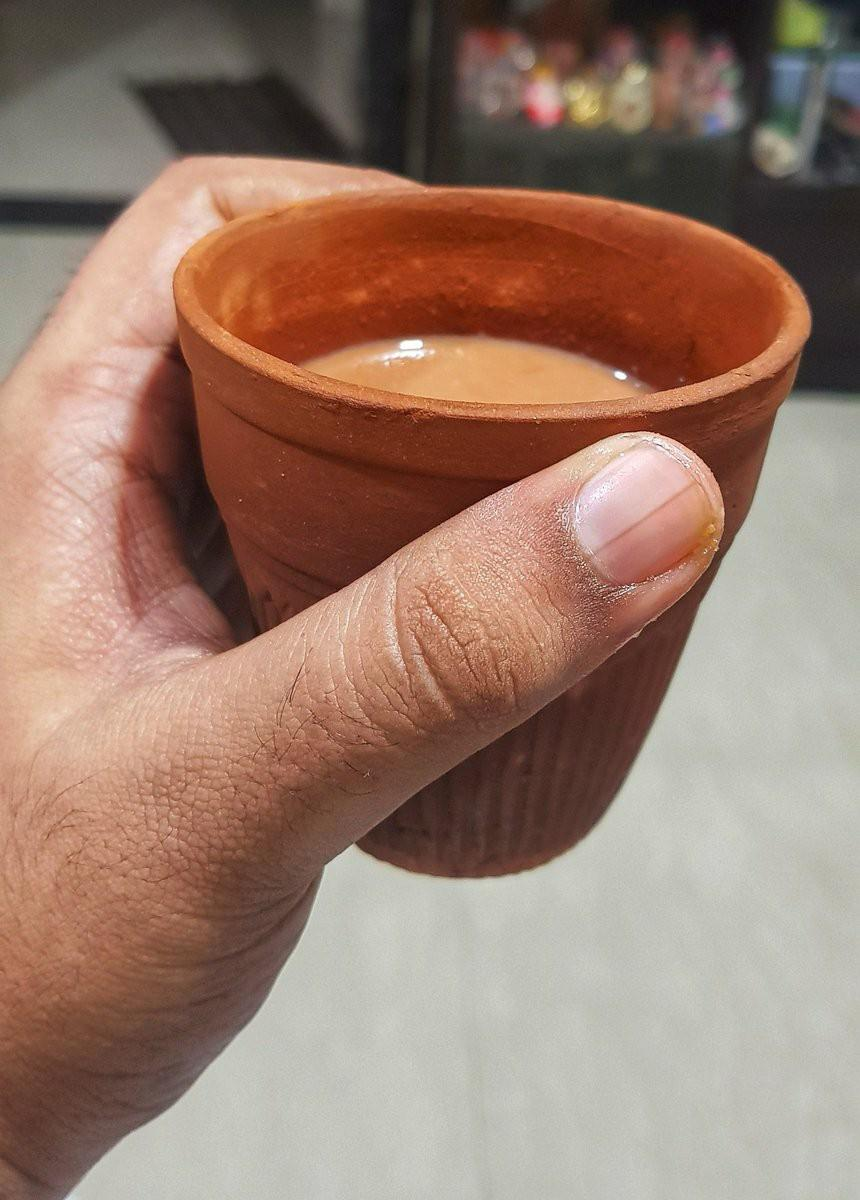Chai: (303, 340, 677, 418)
